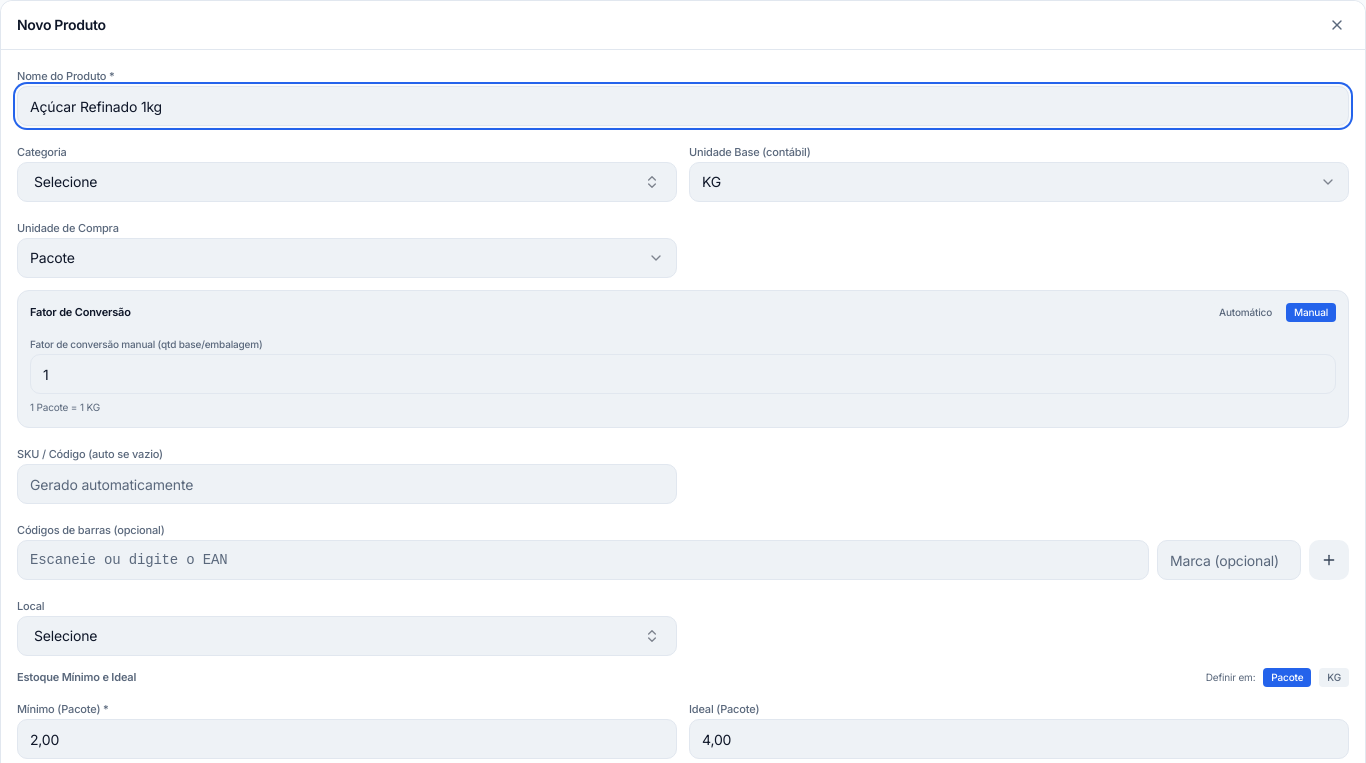
Test: lista de códigos de barras › recusa o mesmo código duas vezes sem ir ao servidor
Type "7891234567890" into the field named "Código de barras". click: (583, 560)
box: [17,540,1149,580]
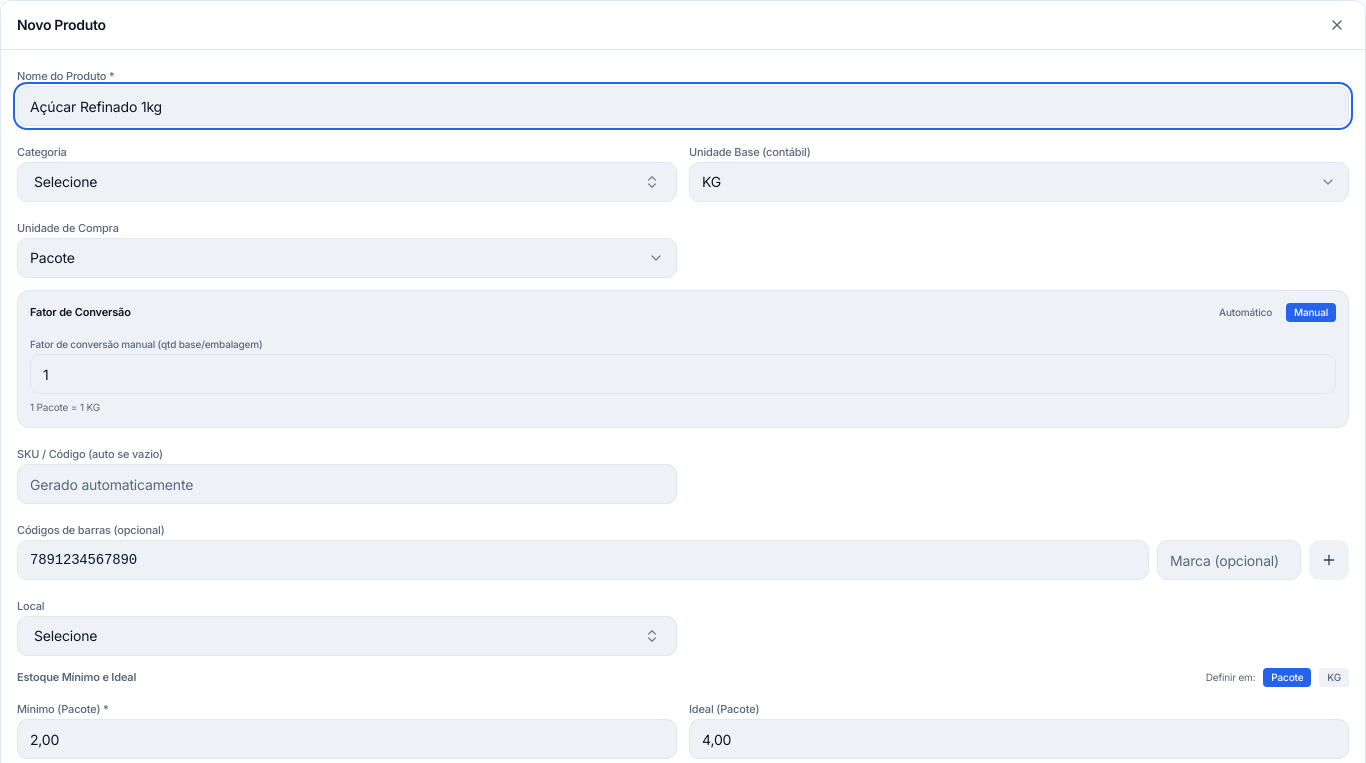
Click the button named "Adicionar código de barras". click: (1329, 560)
box: [1309,540,1349,580]
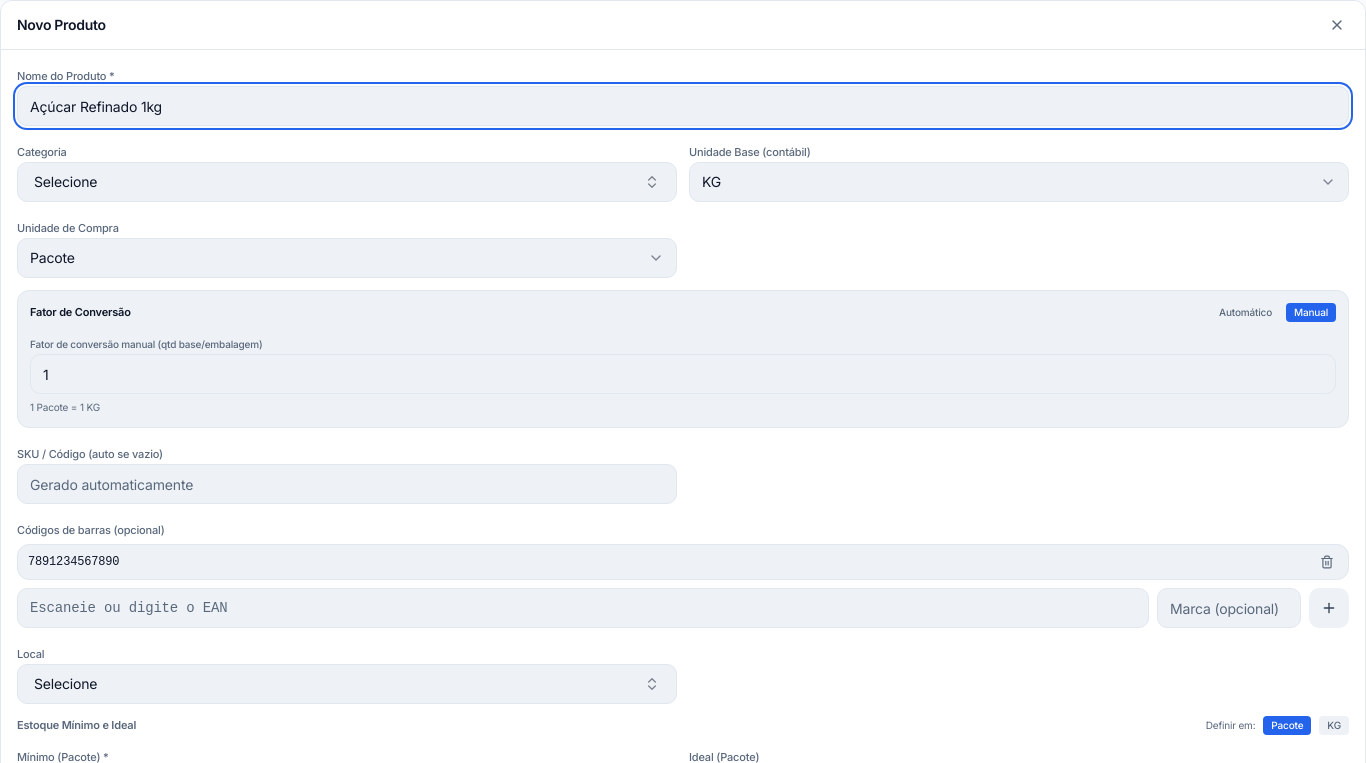
Type "7891234567890" into the field named "Código de barras". click: (583, 608)
box: [17,588,1149,628]
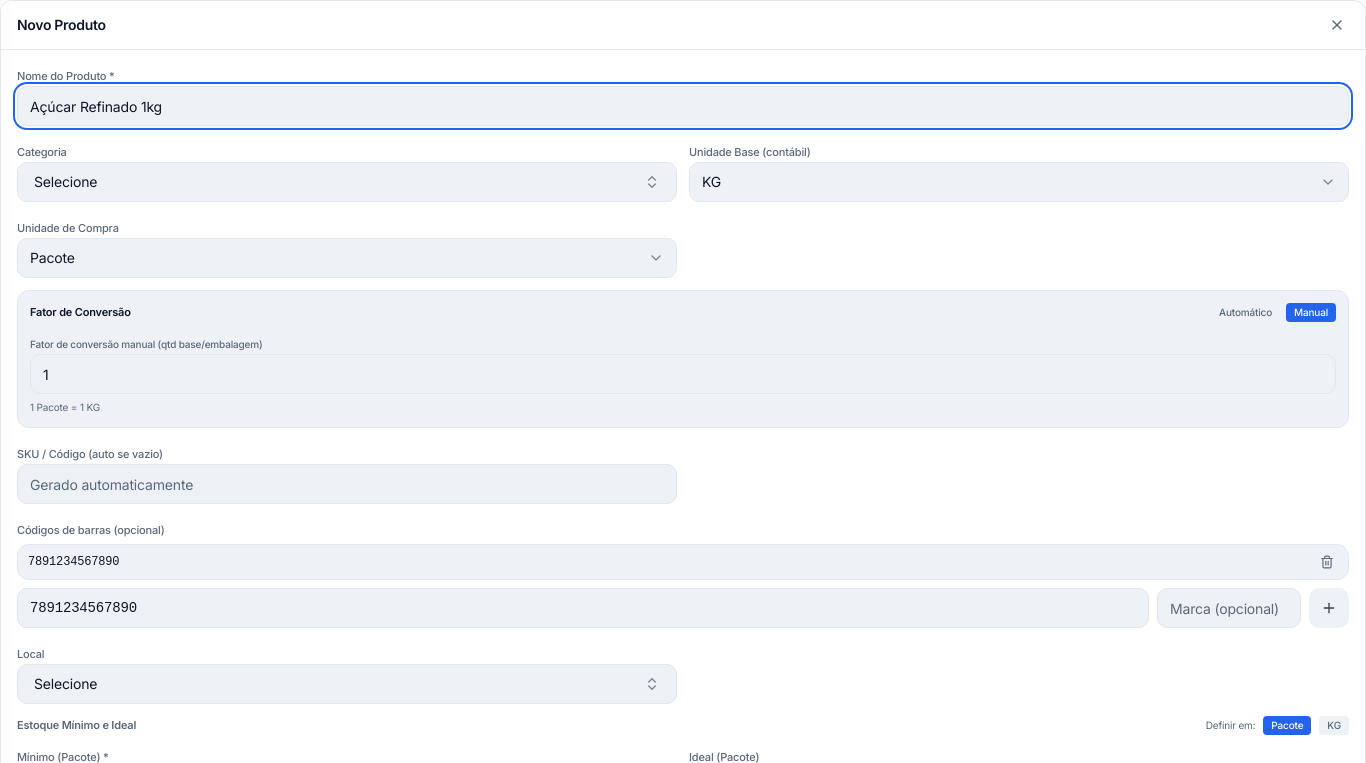
Click the button named "Adicionar código de barras". click: (1329, 608)
box: [1309,588,1349,628]
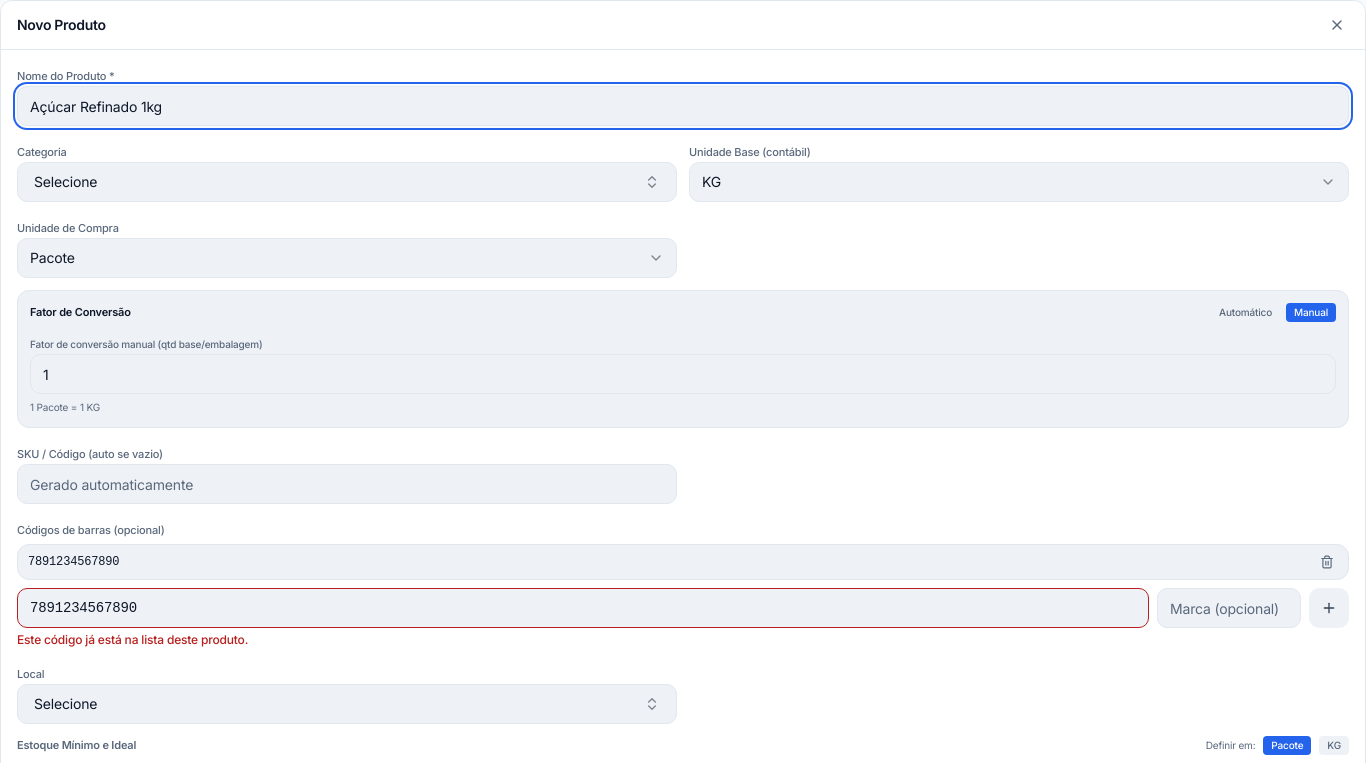
Expected: the text "Este código já está na lista deste produto." is shown, [17,632,248,647]
